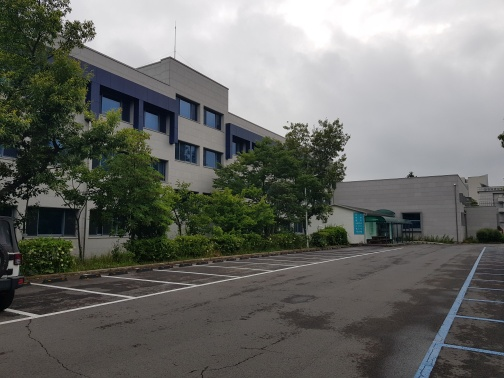College of Social Sciences: (59, 48, 446, 252)
